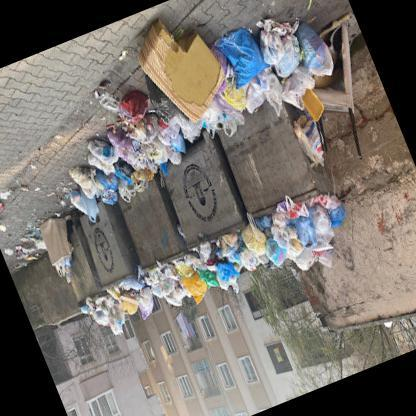Garbage: (210, 188, 357, 288), (51, 125, 141, 224), (247, 12, 335, 106), (106, 84, 186, 186), (132, 246, 226, 320), (274, 193, 344, 275), (208, 58, 270, 122), (81, 279, 146, 337), (35, 212, 85, 278), (292, 110, 330, 164)
